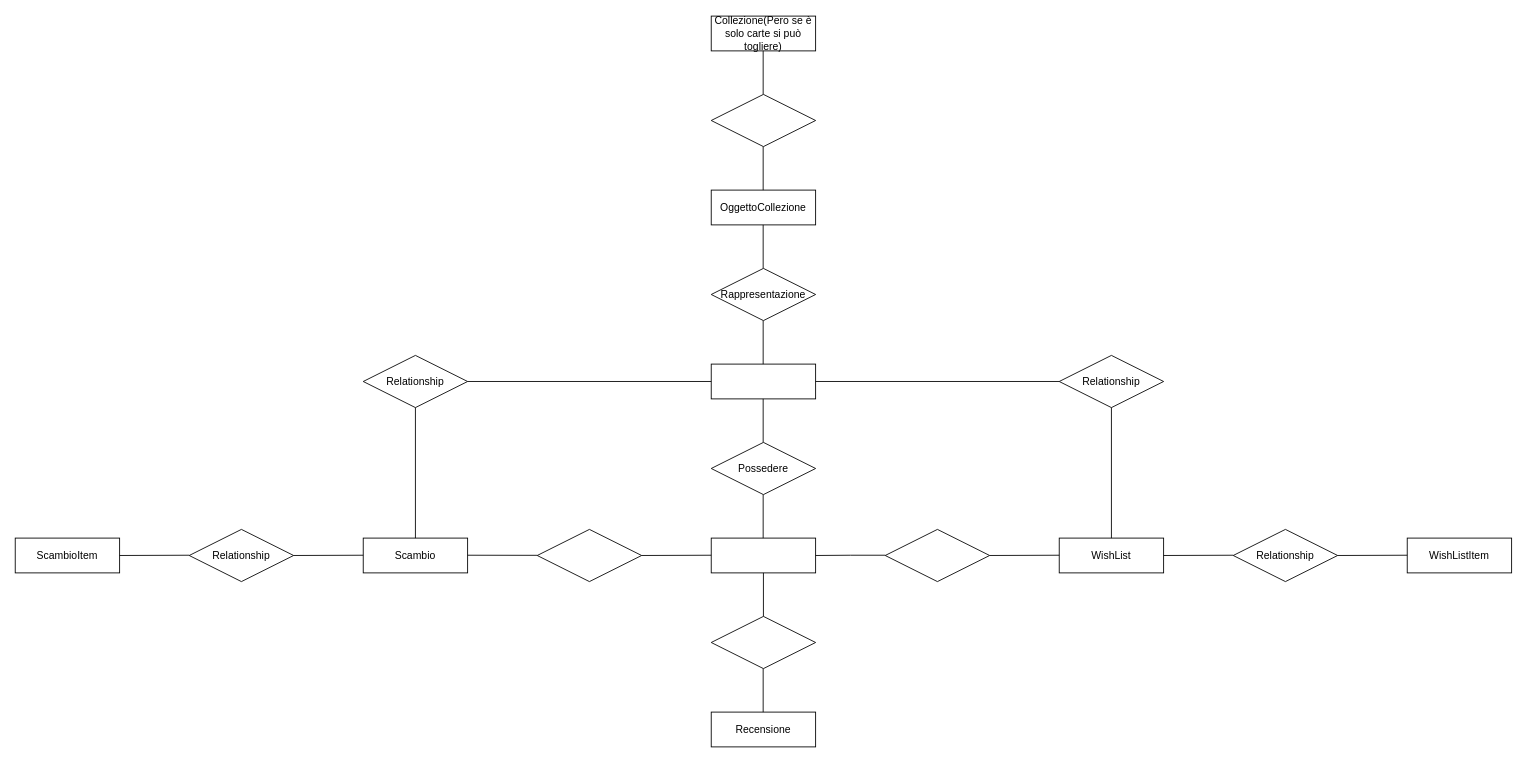
Some shapes in this 1527 by 762 pixel diagram are drawn without their labels. The shapes that lost their labels are listed below. From the top down, each one's centre as x and y in pixels, then its label:
point (763, 120): Appartenente
point (763, 381): CopiaPosseduta
point (589, 555): Effettuare
point (763, 555): Utente
point (937, 555): Detenere
point (763, 642): Condividere
